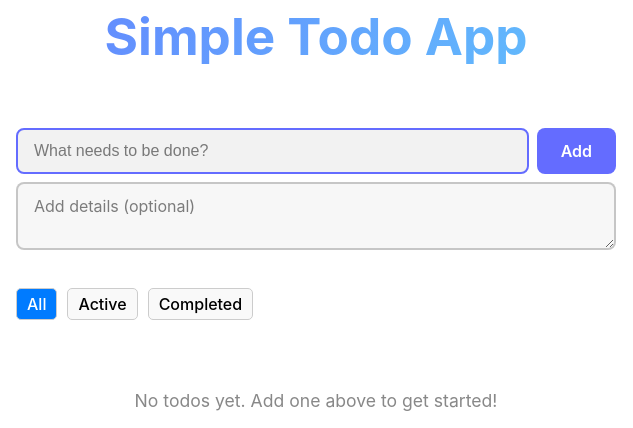
Test: App › adds a new todo with title when form is submitted
Type "Test todo item" into the field with placeholder "What needs to be done?" at (272, 151), box [16,128,529,174]
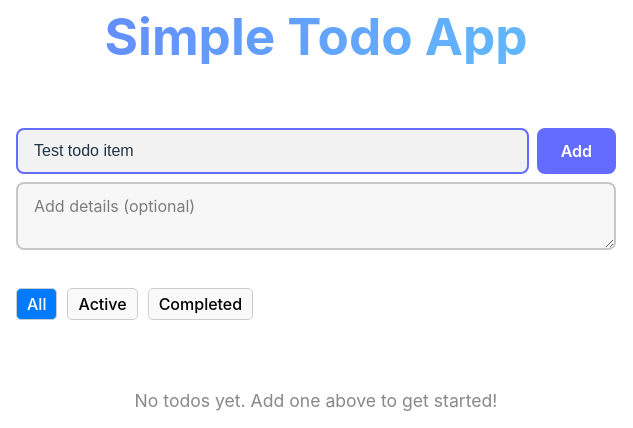
Click the button with aria-label "Add todo" at (576, 151), box [537,128,616,174]
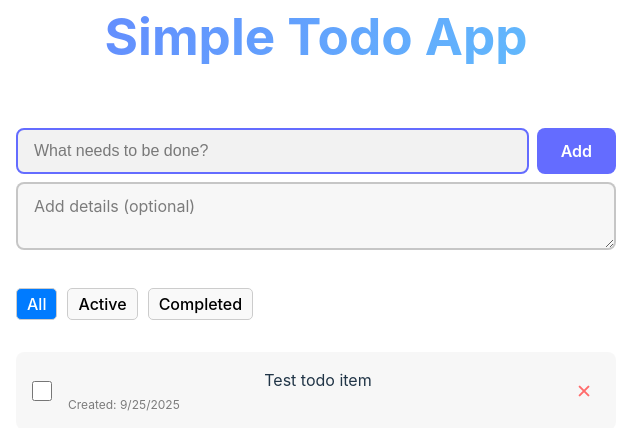
Check: the text "Test todo item" is shown, box [264,370,372,390]
Check: the text "No todos yet. Add one above to get started!" is gone
